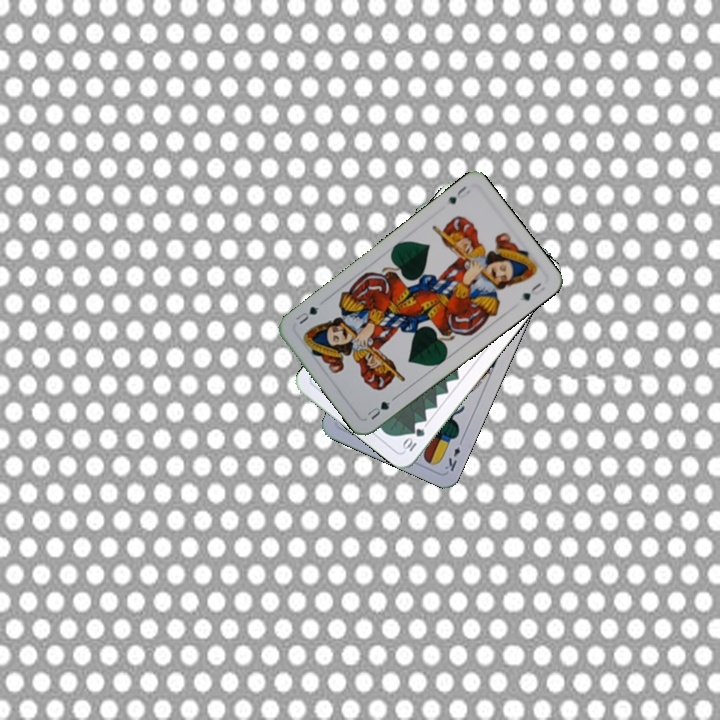EK: (441, 435, 466, 474)
G10: (398, 424, 427, 454)
GU: (363, 397, 393, 423), (443, 182, 473, 207)
